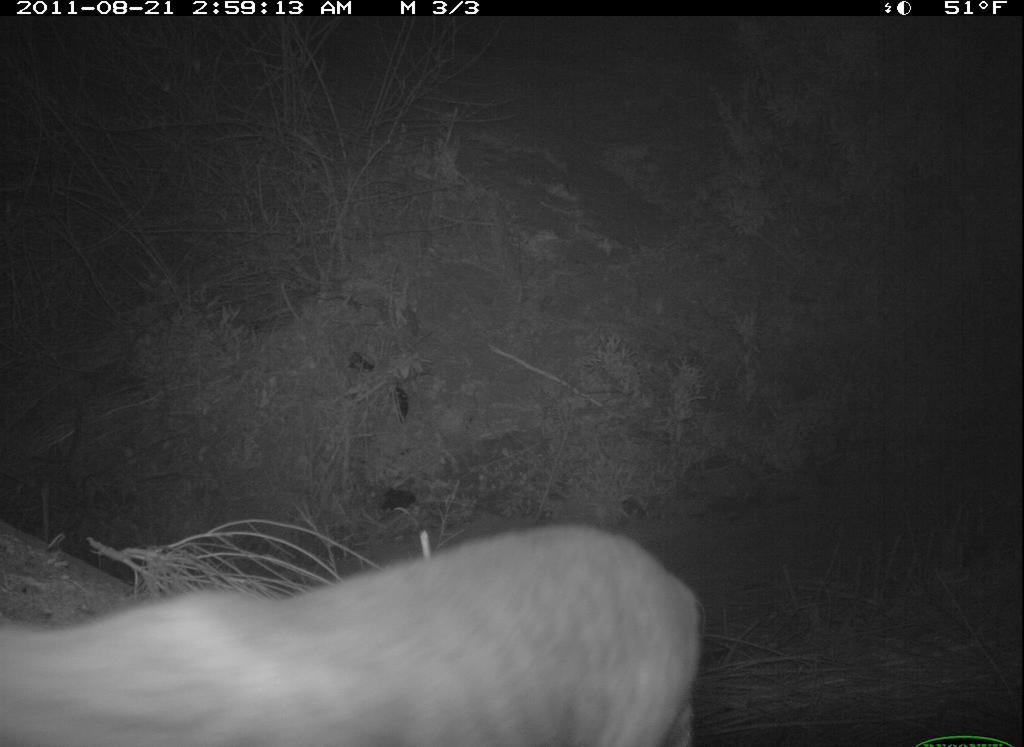cat: (6, 511, 742, 747)
